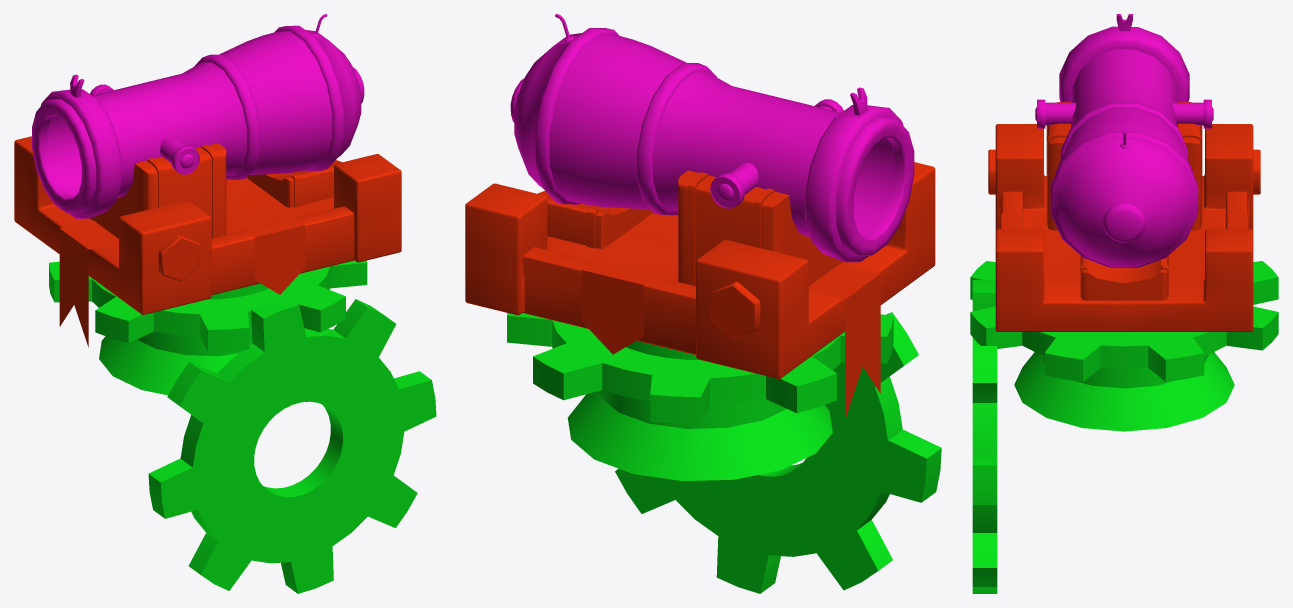
The model's file is kanon.fbx.
3 renders of one model, left to right at view 1: azimuth 30°, elevation 25°; view 2: azimuth 150°, elevation 25°; view 3: azimuth 270°, elevation 25°, orthographic. The views are drawn at different scales.
Parts seen in each view (by area): view 1: Gear.002, Base, Cylinder, Gear.005, Base.001; view 2: Base, Cylinder, Gear.002, Gear.005, Base.001; view 3: Base, Cylinder, Gear.005, Base.001, Gear.002.
Part boxes in pixels (x1,y1,x2,y2): Gear.002: (148,296,436,593); Base: (14,136,401,347); Cylinder: (32,14,364,218); Gear.005: (49,260,367,352); Base.001: (99,283,268,395); Base: (465,162,935,419); Cylinder: (510,14,914,262); Gear.002: (615,312,941,593); Gear.005: (507,313,893,424); Base.001: (567,340,832,480); Base: (988,102,1260,331); Cylinder: (1035,14,1213,267); Gear.005: (970,261,1278,381); Base.001: (1014,352,1234,431); Gear.002: (972,280,997,593).
Bounding box in the file's own units: 2.84 × 4.49 × 2.51.
